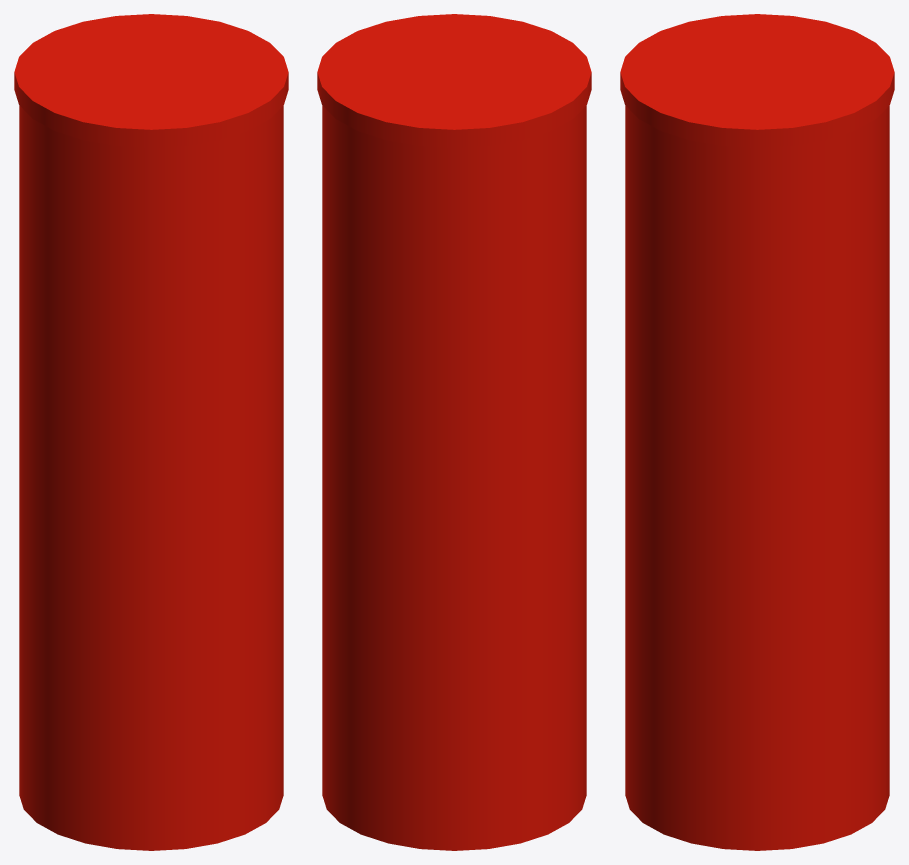
Rendered from TuboPatatineNachos.fbx.
The picture shows the model from 3 angles, left to right: view 1: azimuth 30°, elevation 25°; view 2: azimuth 150°, elevation 25°; view 3: azimuth 270°, elevation 25°; orthographic projection.
Visible parts, largest first — view 1: TubettoPringles.003; view 2: TubettoPringles.003; view 3: TubettoPringles.003.
Boxes of the visible parts, x1,y1,x2,y2 form: TubettoPringles.003: (14,14,288,850); TubettoPringles.003: (317,14,591,850); TubettoPringles.003: (620,14,894,850).
Bounding box in the file's own units: 163 × 474 × 163.
